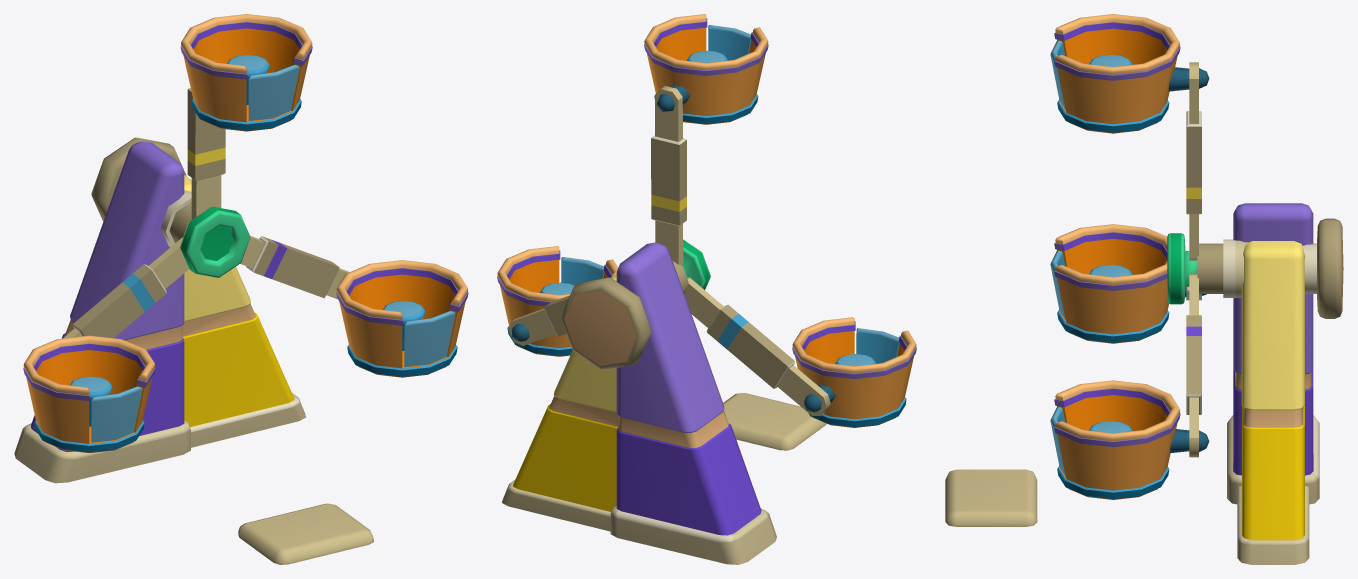
The model's file is whell.fbx.
3 renders of one model, left to right at view 1: azimuth 30°, elevation 25°; view 2: azimuth 150°, elevation 25°; view 3: azimuth 270°, elevation 25°, orthographic. The views are drawn at different scales.
Visible parts, largest first — view 1: wheel:osnovaShape; view 2: wheel:osnovaShape; view 3: wheel:osnovaShape.
Part boxes in pixels (x1,y1,x2,y2): wheel:osnovaShape: (14, 14, 468, 564); wheel:osnovaShape: (497, 14, 916, 564); wheel:osnovaShape: (945, 14, 1343, 564).
Bounding box in the file's own units: 479 × 485 × 379.
